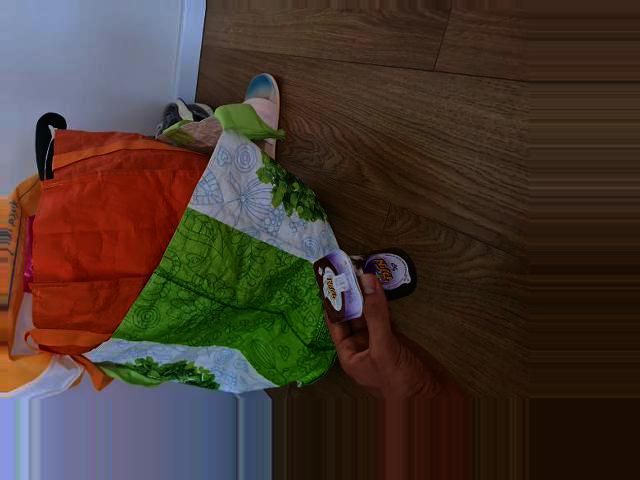milky: (306, 245, 417, 322)
